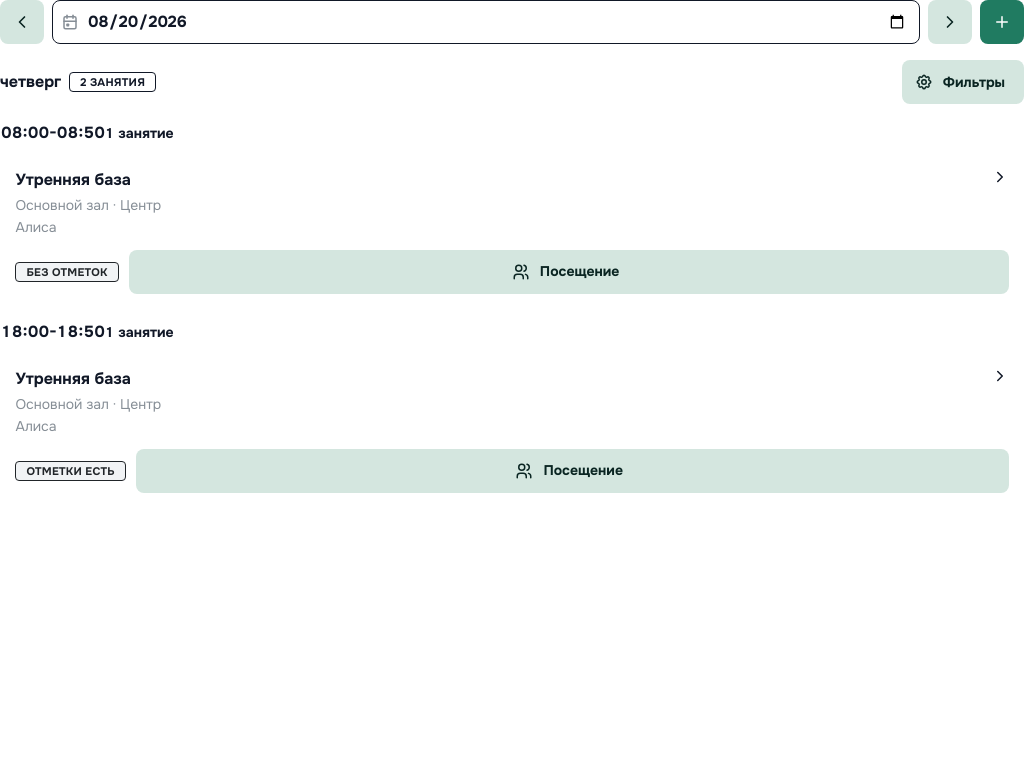
Scenario: GroupScheduleScreen occurrence calendar › opens tools drawer, uses response filterOptions and writes filters to URL
Expected: the element with test id "schedule-card-occurrence-morning" is shown, [1,154,1023,308]
Click the button with aria-label "Параметры календаря".
click(963, 82)  # box [902,60,1023,104]
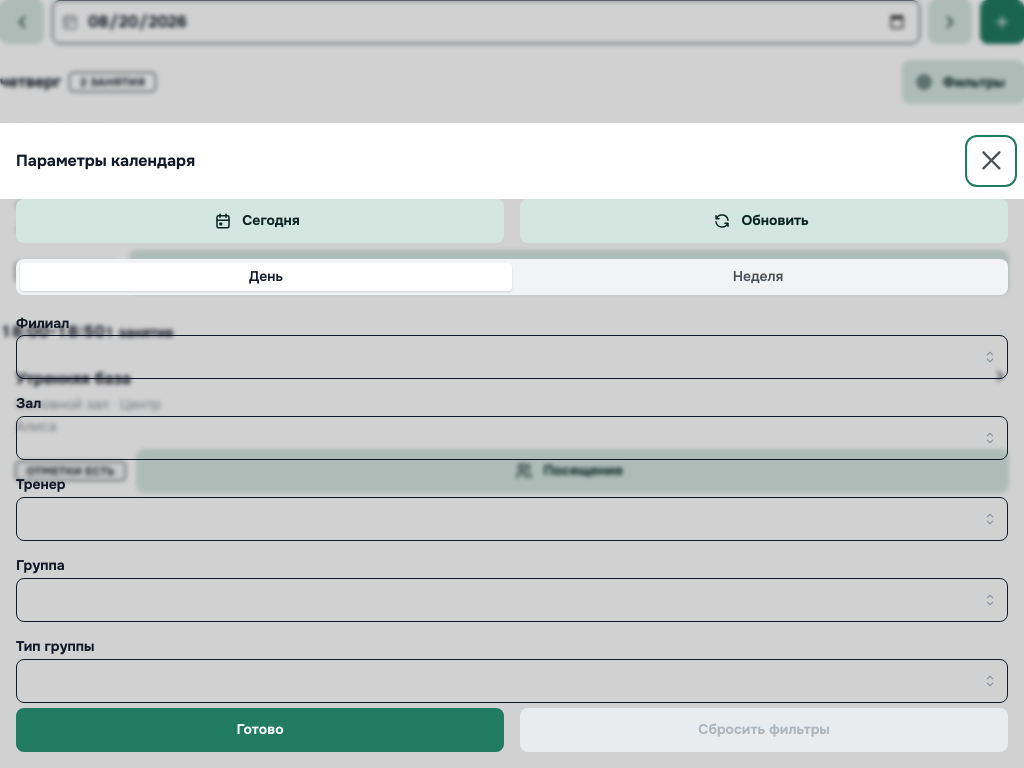
Click the dropdown labelled "Филиал".
click(512, 357)  # box [16,335,1008,379]
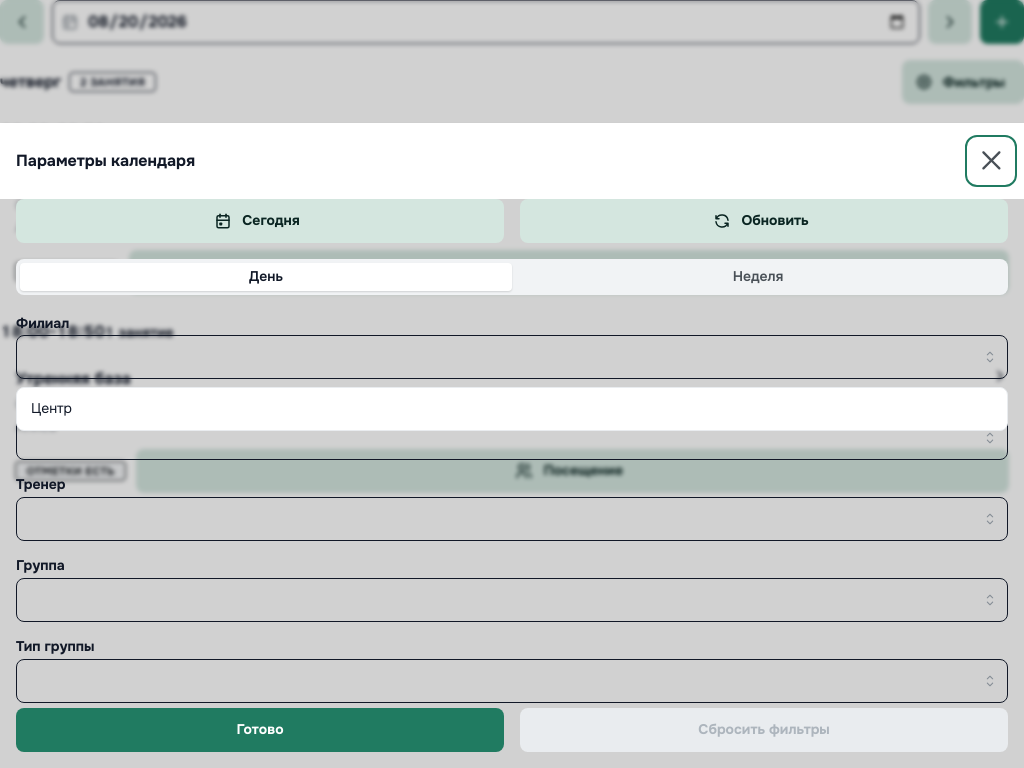
Click the option "Центр".
click(52, 408)  # box [31,399,72,417]
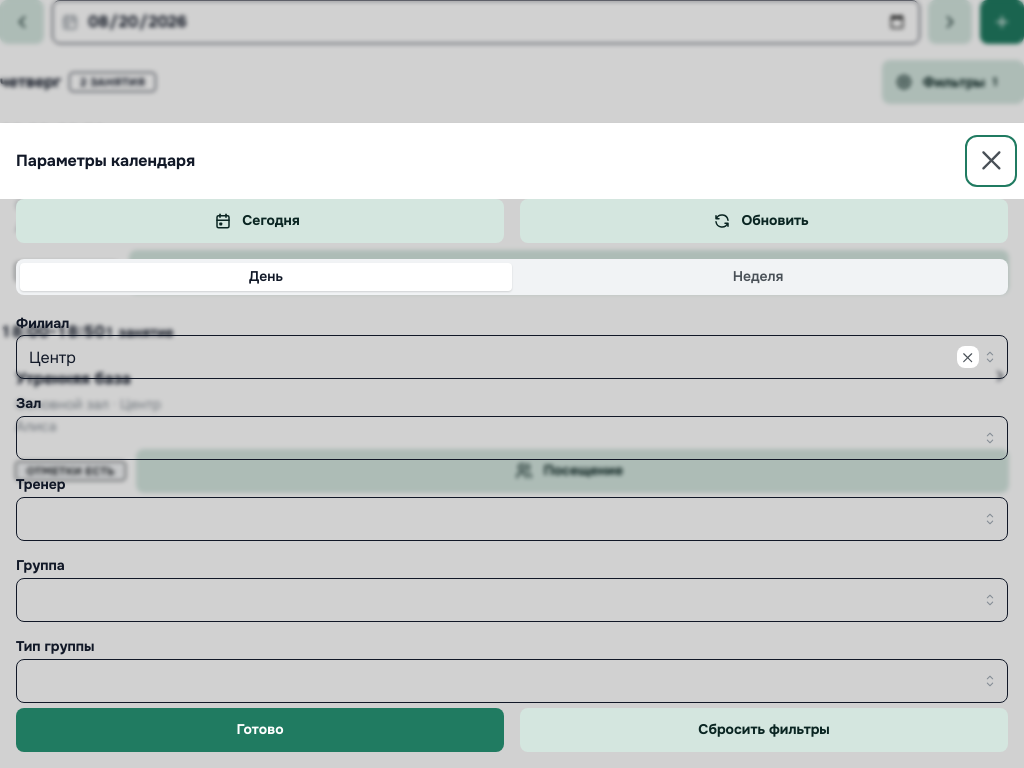
Expected: the button with aria-label "активных фильтров: 1" is shown, [882,60,1023,104]
